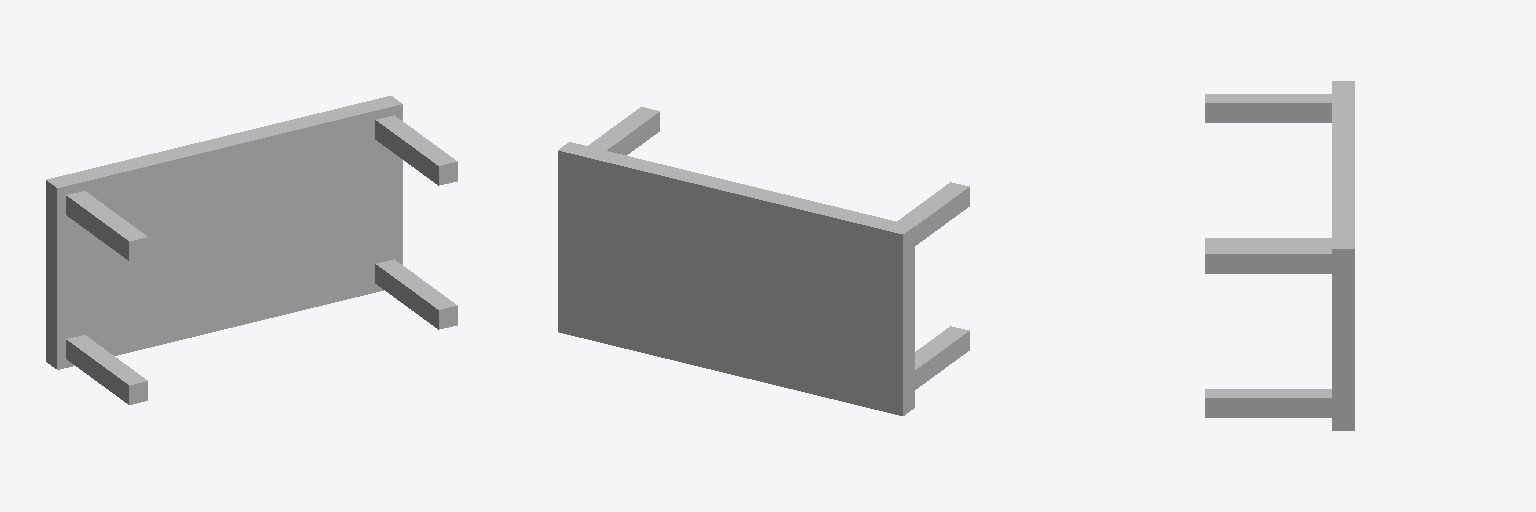
The model's file is random_table14.obj.
3 renders of one model, left to right at view 1: azimuth 30°, elevation 25°; view 2: azimuth 150°, elevation 25°; view 3: azimuth 270°, elevation 25°, orthographic.
Parts seen in each view (by area): view 1: Table_Cube.265, TableLeg0_Cube.266, TableLeg2_Cube.268, TableLeg1_Cube.267, TableLeg3_Cube.269; view 2: Table_Cube.265, TableLeg1_Cube.267, TableLeg3_Cube.269, TableLeg0_Cube.266; view 3: Table_Cube.265, TableLeg0_Cube.266, TableLeg1_Cube.267, TableLeg2_Cube.268, TableLeg3_Cube.269.
Part boxes in pixels (x1,y1,x2,y2): Table_Cube.265: (46, 96, 402, 369); TableLeg0_Cube.266: (375, 115, 457, 185); TableLeg2_Cube.268: (375, 259, 457, 329); TableLeg1_Cube.267: (66, 191, 147, 260); TableLeg3_Cube.269: (66, 335, 147, 404); Table_Cube.265: (558, 142, 914, 415); TableLeg1_Cube.267: (897, 182, 969, 245); TableLeg3_Cube.269: (915, 326, 969, 389); TableLeg0_Cube.266: (588, 107, 659, 155); Table_Cube.265: (1332, 81, 1354, 430); TableLeg0_Cube.266: (1205, 245, 1331, 273); TableLeg1_Cube.267: (1205, 94, 1331, 122); TableLeg2_Cube.268: (1205, 389, 1331, 417); TableLeg3_Cube.269: (1205, 238, 1331, 244).
Size of the model in its own units: 9.89 by 4.97 by 3.72.